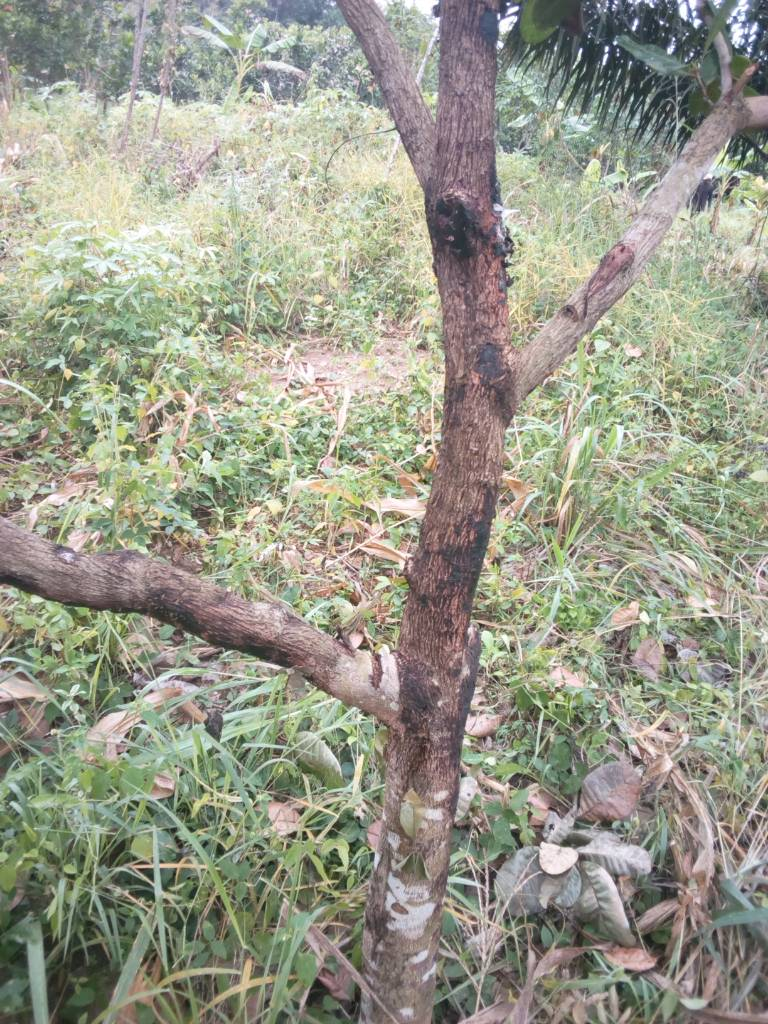Mecocorynus longiceps: (389, 175, 530, 308)
